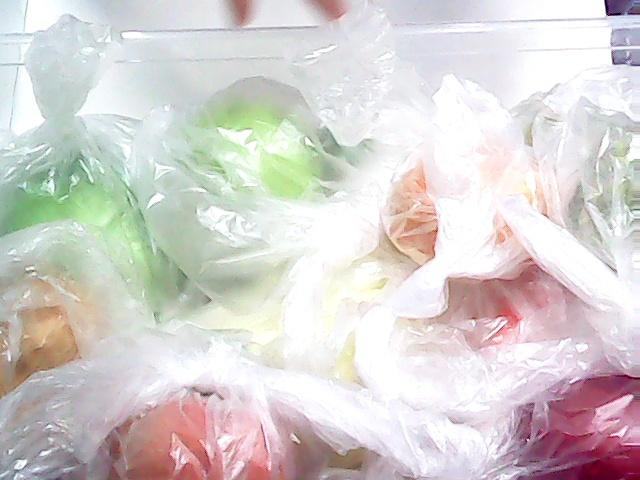apple: (148, 97, 328, 263), (502, 336, 640, 480)
cabbage: (0, 129, 192, 331)
carrot: (477, 252, 587, 354)
lemon: (374, 114, 566, 284)
napa cabbage: (101, 240, 451, 422)
peach: (107, 388, 297, 480)
potato: (0, 269, 102, 411)
radish: (314, 113, 434, 223)
